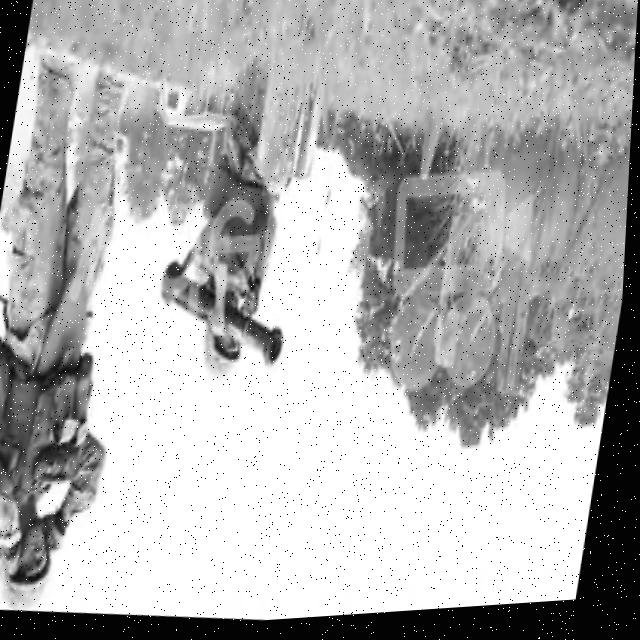rocket: (147, 241, 304, 394)
